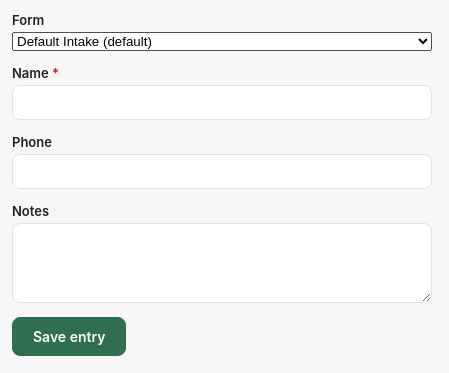
Test: NewEntryForm › shows a template picker and switches fields when multiple templates exist
Expected: the field labelled "Name *" is shown, [12,85,432,120]
Select "Vendor Intake" in the dropdown labelled "Form" at (222, 42), box [12,32,432,51]
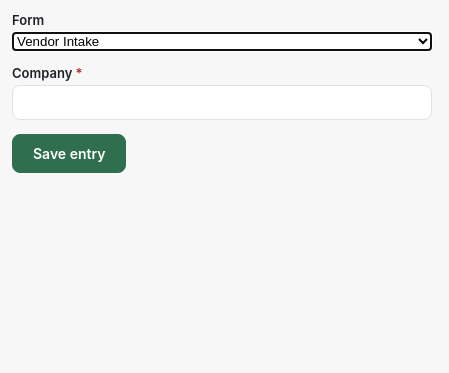
Expected: the field labelled "Company *" is shown, [12,85,432,120]
Result: the label labelled "Name" is gone
